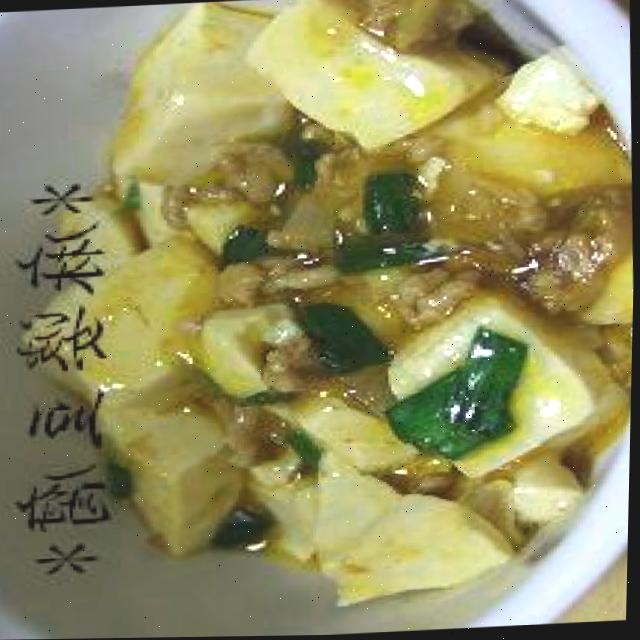豆腐料理: (90, 0, 640, 639)
